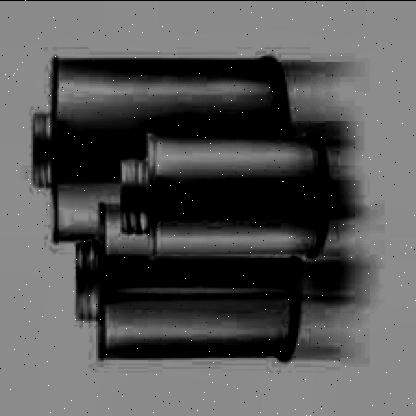Can: (28, 51, 292, 247), (70, 196, 306, 364), (116, 125, 332, 263)
